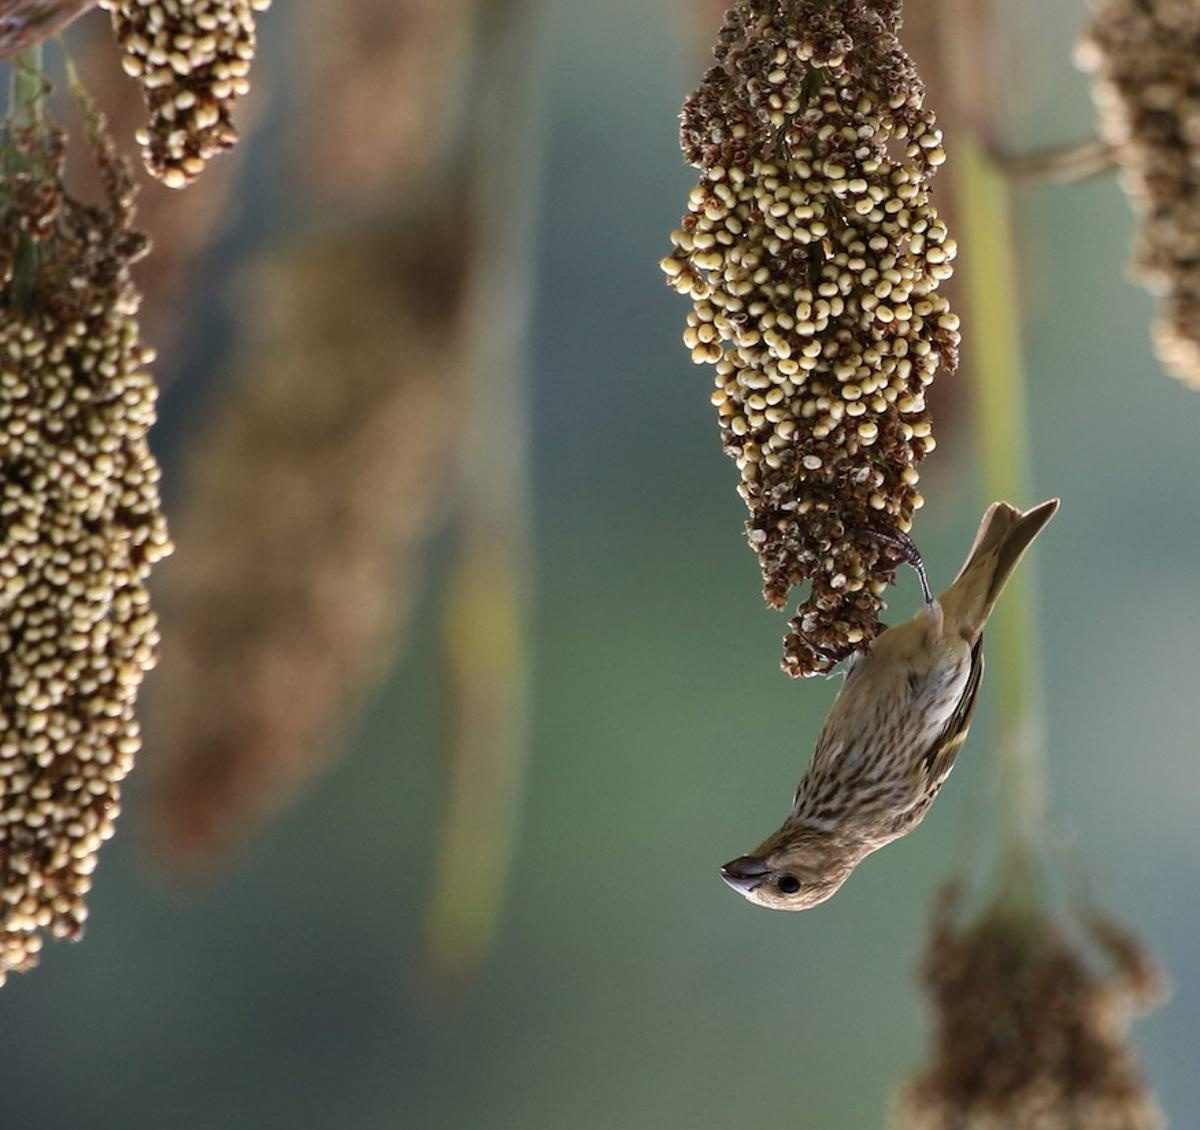rosefinch: (670, 494, 1108, 956)
